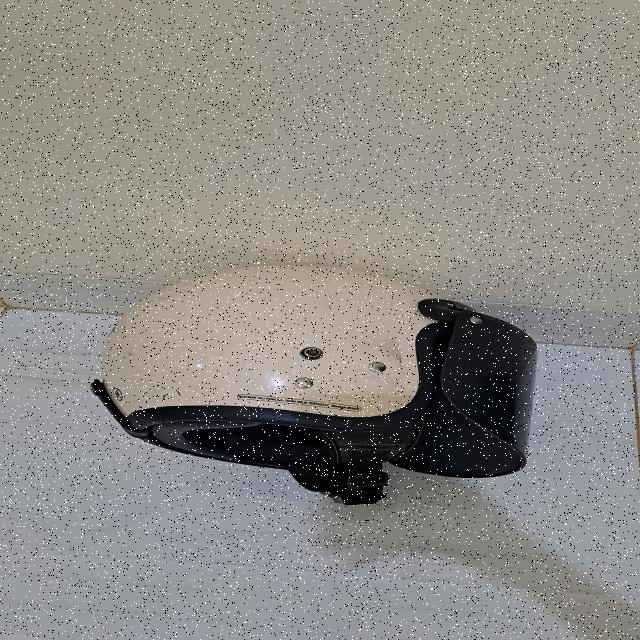Helmet: (88, 264, 539, 507)
